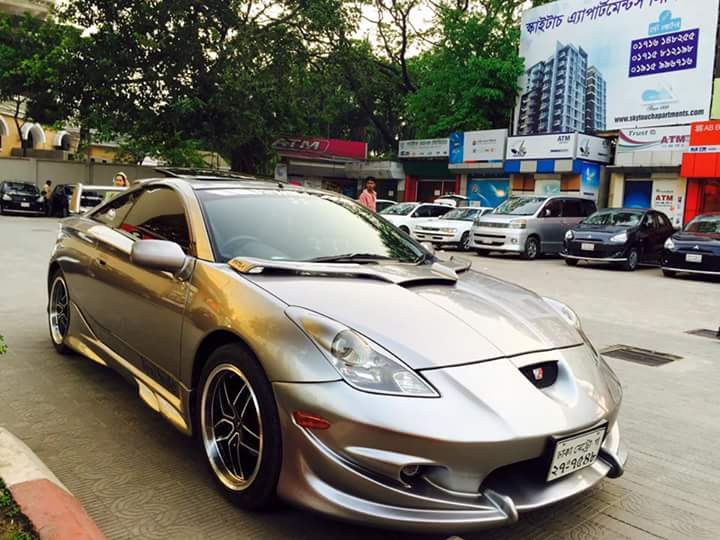registration_plate: (547, 426, 606, 480)
